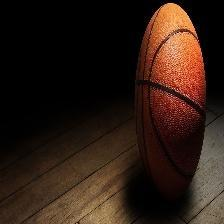Sports-Ball: (135, 1, 210, 195)
